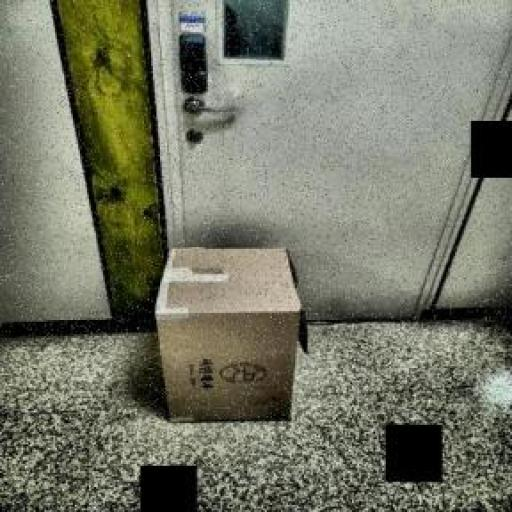box: (132, 234, 326, 436)
